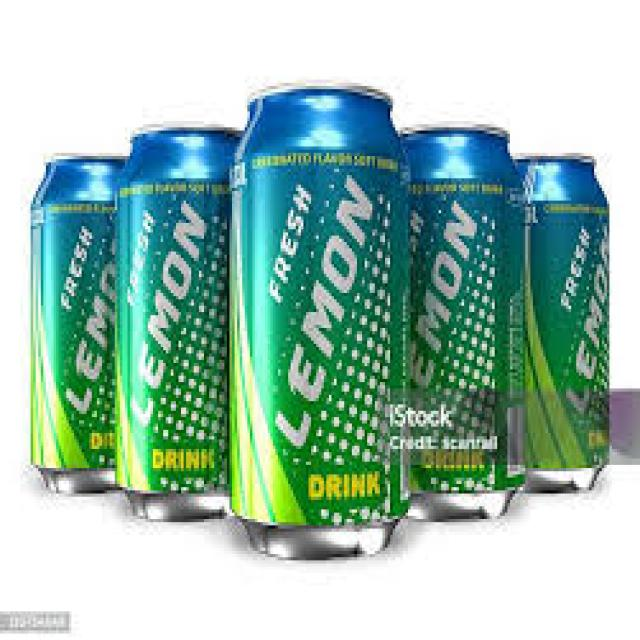Cans: (222, 80, 408, 560), (398, 118, 535, 519), (112, 124, 232, 529)
